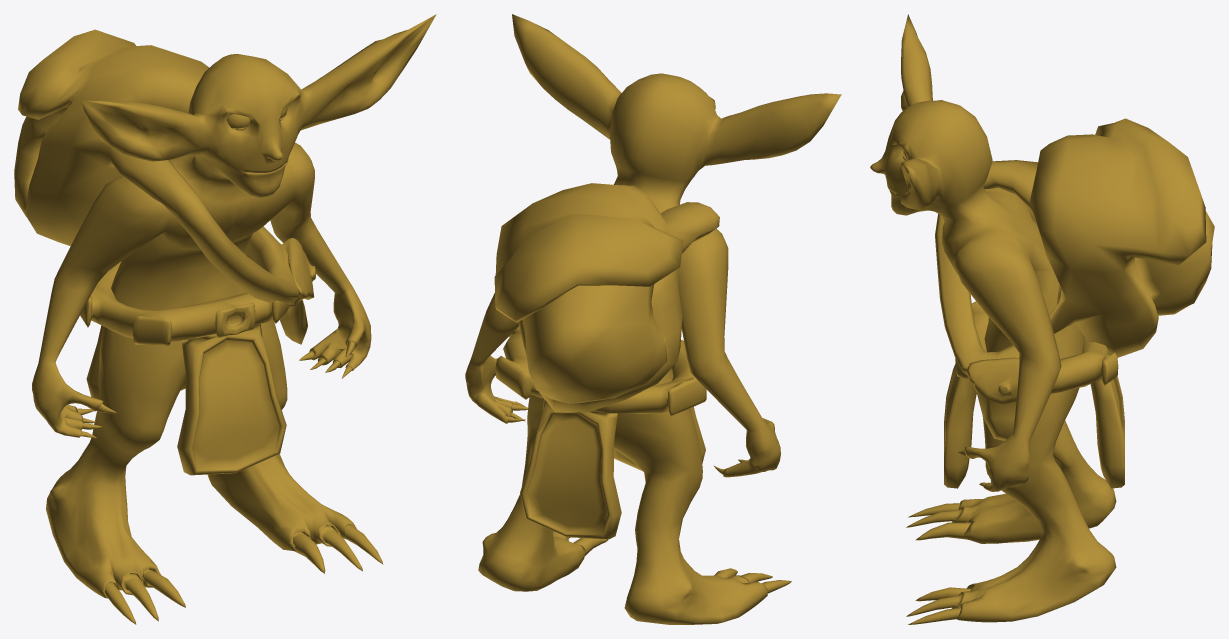
The model's file is duende.glb.
3 views of the same model, side by side, from view 1: azimuth 30°, elevation 25°; view 2: azimuth 150°, elevation 25°; view 3: azimuth 270°, elevation 25° (orthographic). The views are drawn at different scales.
Visible parts, largest first — view 1: goblin; view 2: goblin; view 3: goblin.
Boxes of the visible parts, bbox=[...] form: goblin: bbox=[14, 14, 436, 624]; goblin: bbox=[465, 14, 841, 624]; goblin: bbox=[870, 14, 1214, 624].
Bounding box in the file's own units: 0.4131 × 0.6019 × 0.3891.
